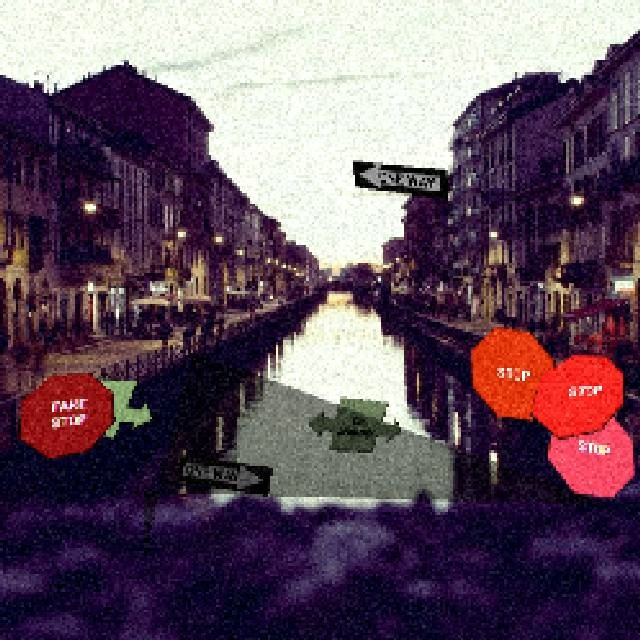FAKE_STOP: (16, 370, 111, 457)
GO_AROUND: (57, 375, 152, 437), (305, 394, 400, 450)
ONE_WAY_ left: (350, 158, 445, 197)
ONE_WAY_ right: (175, 453, 270, 494)
STOP: (545, 402, 634, 497), (469, 324, 554, 419), (528, 352, 623, 437)
